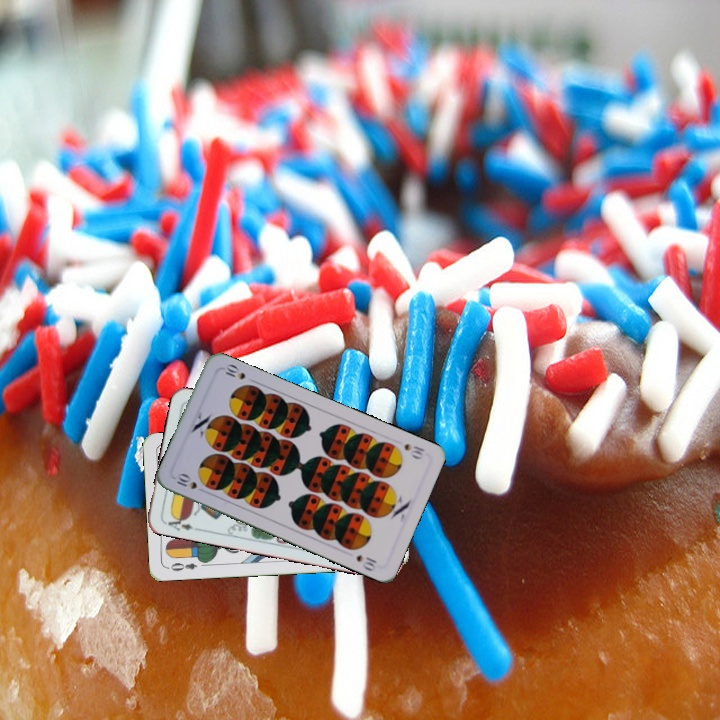EA: (161, 512, 195, 533)
EO: (164, 559, 200, 574)
S10: (171, 469, 200, 492), (400, 439, 427, 462)
